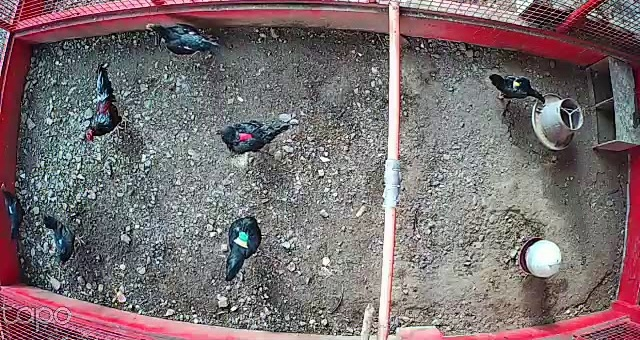Chicken: (141, 17, 226, 61), (211, 115, 294, 157), (220, 210, 266, 279), (37, 206, 86, 266), (1, 181, 35, 242), (487, 74, 546, 105)
Rooster: (79, 58, 138, 148)
Saddle_Color_Red: (238, 132, 253, 140)
Saddle_Color_White: (7, 204, 15, 215)
Saddle_Color_Yellow: (511, 78, 521, 91)
Saddle_Color_YellowGreen: (234, 229, 250, 248)
